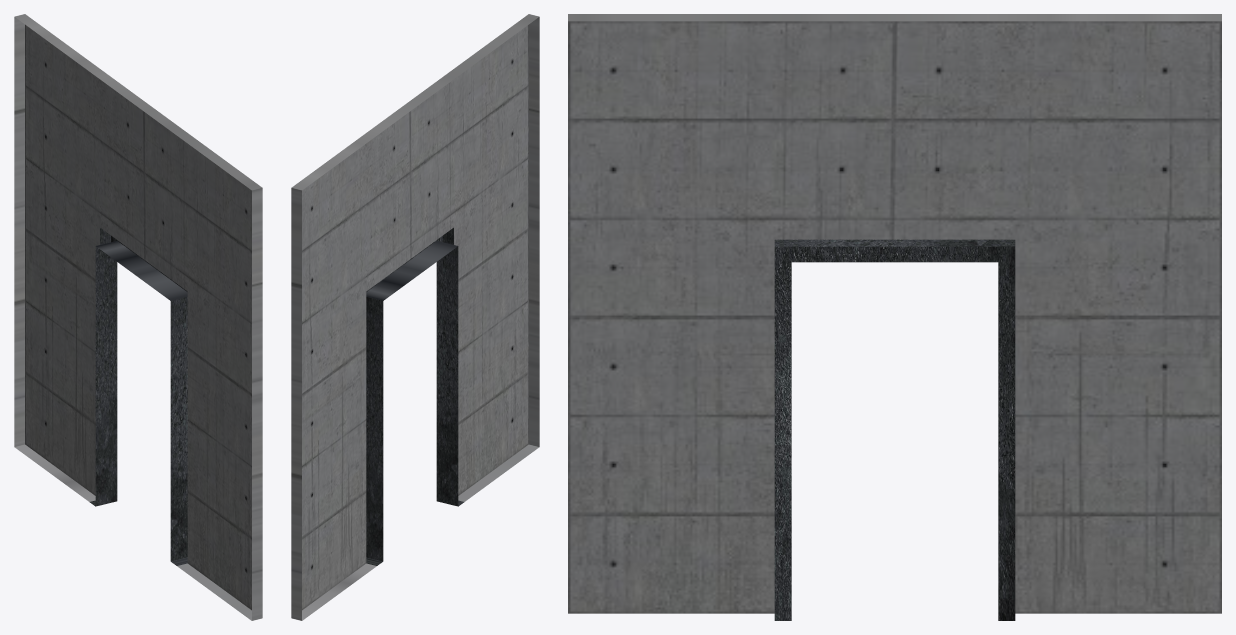
File: Doorway.fbx
The picture shows the model from 3 angles, left to right: view 1: azimuth 30°, elevation 25°; view 2: azimuth 150°, elevation 25°; view 3: azimuth 270°, elevation 25°; orthographic projection. The views are drawn at different scales.
Parts seen in each view (by area): view 1: Cube.003; view 2: Cube.003; view 3: Cube.003.
Part boxes in pixels (bbox=[...]): Cube.003: bbox=[14, 14, 262, 620]; Cube.003: bbox=[291, 14, 539, 620]; Cube.003: bbox=[568, 14, 1221, 620].
Bounding box in the file's own units: 10 × 190 × 190.
